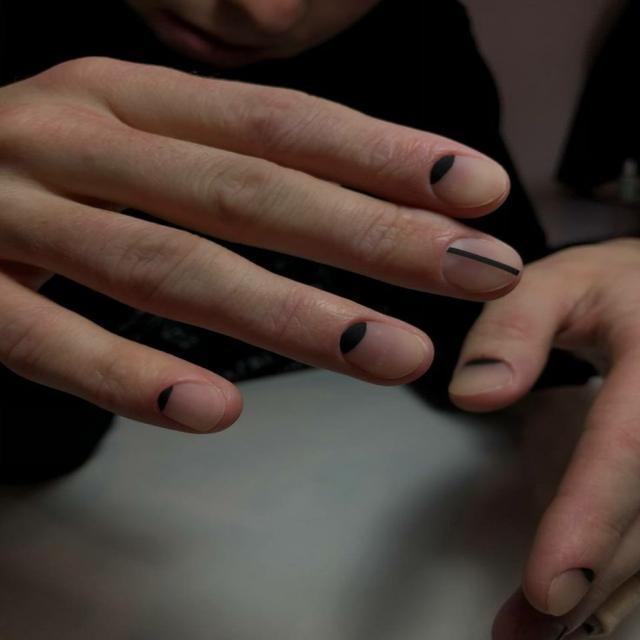Fingernail: (340, 320, 425, 379), (444, 238, 519, 292), (431, 155, 505, 208), (156, 379, 225, 433), (450, 358, 512, 395), (548, 568, 594, 616)
